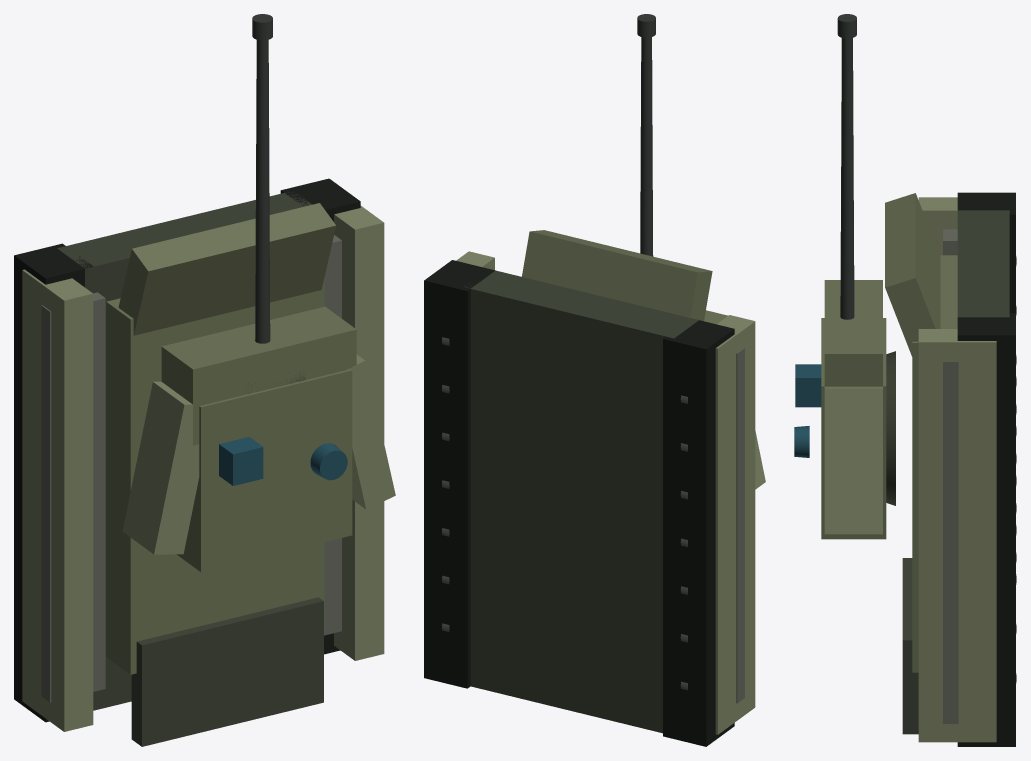
3 renders of one model, left to right at view 1: azimuth 30°, elevation 25°; view 2: azimuth 150°, elevation 25°; view 3: azimuth 270°, elevation 25°, orthographic. The views are drawn at different scales.
Visible parts, largest first — view 1: left_heavy_skirt, long_hull_upper, boxy_turret_core, rear_engine_grille, angled_nose, right_heavy_skirt, wedge_front_armor, left_track_guard, left_side_turret_slope, long_hull_lower, left_track_rubber, barrel_tube (+5 smaller); view 2: long_hull_lower, left_track_rubber, right_track_rubber, left_heavy_skirt, angled_nose, left_track_guard, barrel_tube; view 3: right_heavy_skirt, right_track_rubber, right_side_turret_slope, angled_nose, right_track_guard, wedge_front_armor, long_hull_lower, barrel_tube, long_hull_upper, rear_engine_grille, boxy_turret_core, left_track_rubber (+6 smaller).
Boxes of the visible parts, x1,y1,x2,y2 form: left_heavy_skirt: [22, 269, 93, 731]; long_hull_upper: [106, 278, 324, 674]; boxy_turret_core: [177, 369, 352, 572]; rear_engine_grille: [131, 597, 323, 746]; angled_nose: [118, 203, 336, 335]; right_heavy_skirt: [334, 206, 384, 660]; wedge_front_armor: [161, 306, 356, 445]; left_track_guard: [41, 292, 105, 702]; left_side_turret_slope: [122, 381, 199, 554]; long_hull_lower: [57, 192, 311, 710]; left_track_rubber: [14, 243, 93, 722]; barrel_tube: [255, 40, 270, 343]; long_hull_lower: [464, 270, 698, 733]; left_track_rubber: [663, 320, 734, 746]; right_track_rubber: [424, 260, 495, 688]; left_heavy_skirt: [715, 315, 755, 734]; angled_nose: [522, 230, 712, 321]; left_track_guard: [736, 348, 744, 703]; barrel_tube: [640, 37, 653, 256]; right_heavy_skirt: [918, 329, 996, 742]; right_track_rubber: [957, 313, 1015, 746]; right_side_turret_slope: [824, 386, 882, 534]; angled_nose: [885, 193, 940, 356]; right_track_guard: [943, 361, 958, 723]; wedge_front_armor: [824, 280, 882, 386]; long_hull_lower: [957, 210, 1009, 317]; barrel_tube: [840, 38, 854, 319]; long_hull_upper: [912, 255, 957, 672]; rear_engine_grille: [902, 558, 918, 734]; boxy_turret_core: [821, 318, 886, 539]; left_track_rubber: [957, 192, 1015, 313].
Size of the model in its own units: 53.2 by 115 by 34.3.
